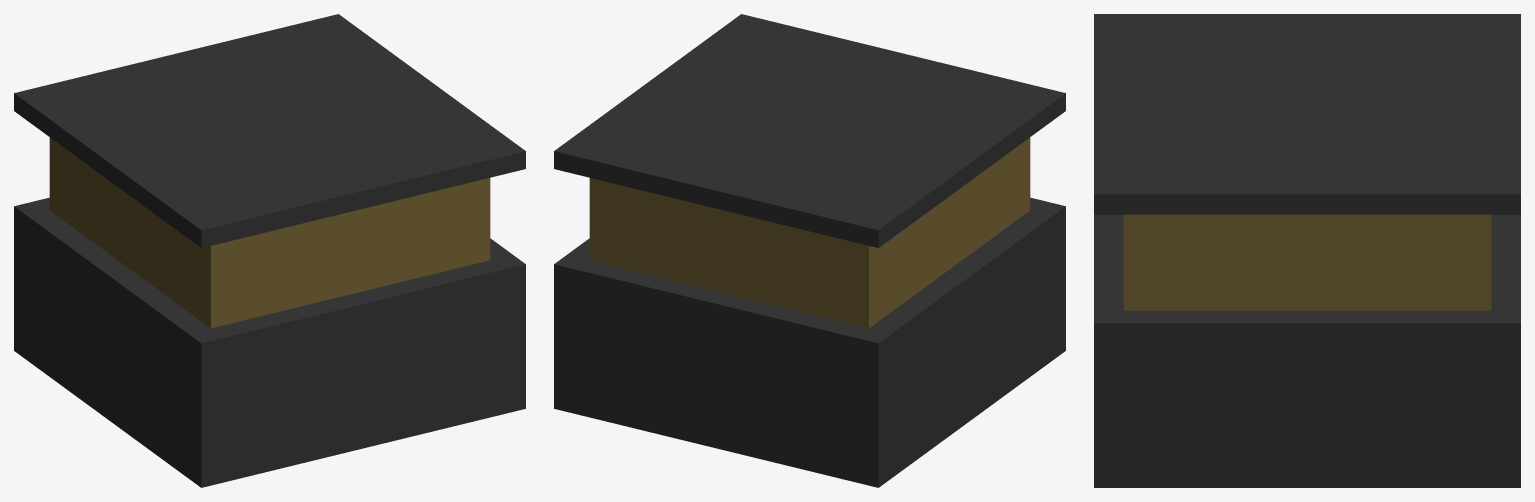
File: Goldmine.fbx
The picture shows the model from 3 angles, left to right: view 1: azimuth 30°, elevation 25°; view 2: azimuth 150°, elevation 25°; view 3: azimuth 270°, elevation 25°; orthographic projection. The views are drawn at different scales.
Visible parts, largest first — view 1: pCube1, pCube3, pCube2; view 2: pCube1, pCube3, pCube2; view 3: pCube3, pCube1, pCube2.
Boxes of the visible parts, x1,y1,x2,y2 form: pCube1: [14, 197, 525, 487]; pCube3: [14, 14, 525, 247]; pCube2: [49, 137, 490, 328]; pCube1: [554, 197, 1065, 487]; pCube3: [554, 14, 1065, 247]; pCube2: [589, 137, 1030, 328]; pCube3: [1094, 14, 1520, 214]; pCube1: [1094, 214, 1520, 487]; pCube2: [1123, 214, 1491, 310].
Size of the model in its own units: 1 by 0.7586 by 1.
